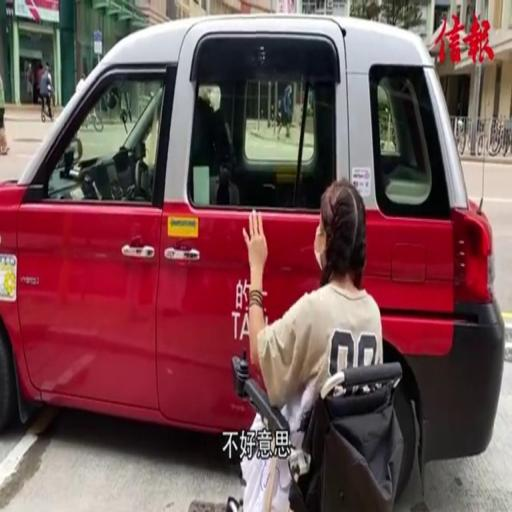cadeira_de_rodas: (218, 169, 439, 512)
pessoa: (35, 68, 56, 121), (279, 78, 294, 144)
